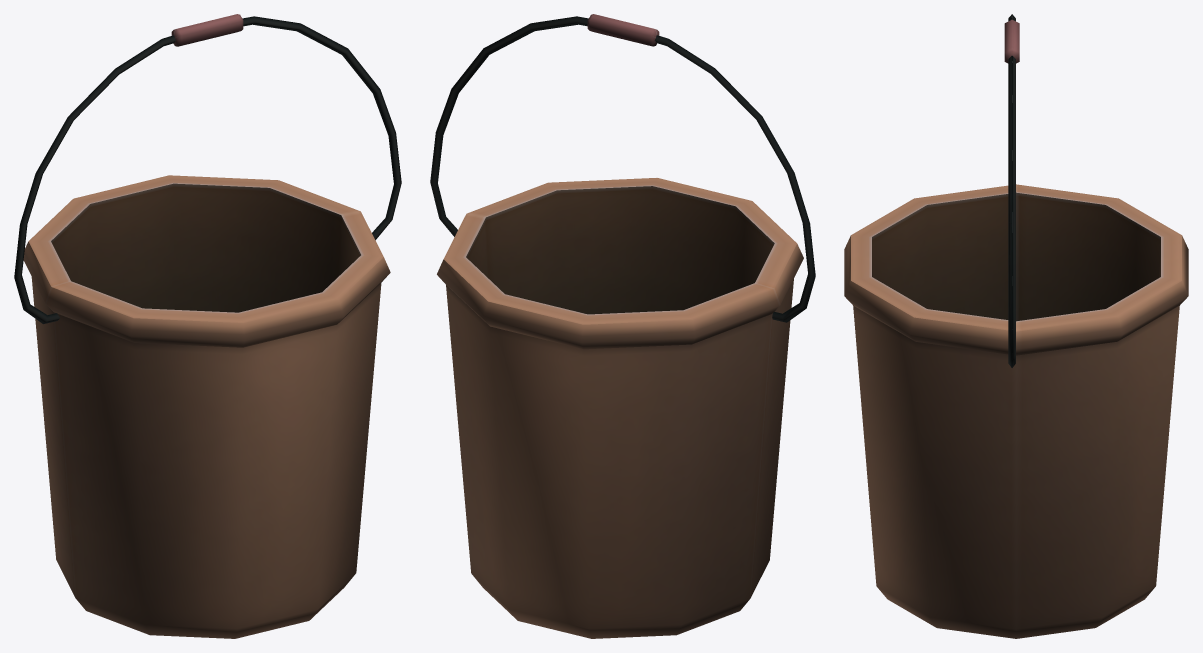
File: CeSuo_01_shuitong_01.FBX
3 renders of one model, left to right at view 1: azimuth 30°, elevation 25°; view 2: azimuth 150°, elevation 25°; view 3: azimuth 270°, elevation 25°, orthographic. The views are drawn at different scales.
Visible parts, largest first — view 1: CeSuo_01_shuitong_01; view 2: CeSuo_01_shuitong_01; view 3: CeSuo_01_shuitong_01.
Boxes of the visible parts, bbox=[...] form: CeSuo_01_shuitong_01: bbox=[14, 14, 401, 638]; CeSuo_01_shuitong_01: bbox=[430, 14, 815, 638]; CeSuo_01_shuitong_01: bbox=[844, 14, 1188, 638].
Bounding box in the file's own units: 139 × 193 × 110.
